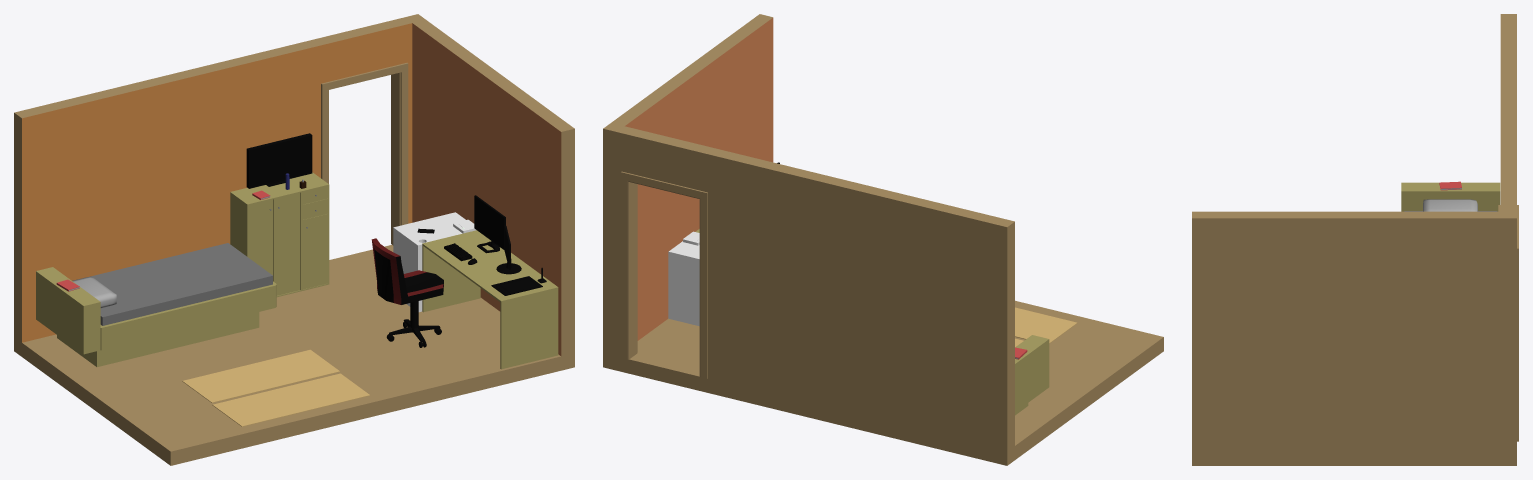
Rendered from room2.glb.
3 views of the same model, side by side, from view 1: azimuth 30°, elevation 25°; view 2: azimuth 150°, elevation 25°; view 3: azimuth 270°, elevation 25° (orthographic). The views are drawn at different scales.
Parts seen in each view (by area): view 1: walls, closet, desk, bed top, bed mid, door border, rug.001, rug, bed head, bed bottom, base.001, seat (+5 smaller); view 2: walls, door border, table, bed head, rug.001; view 3: walls, bed head, pillow, door border.
Boxes of the visible parts, box(x1,y1,x2,y2) form: walls: box(14, 14, 574, 465); closet: box(230, 172, 329, 297); desk: box(422, 230, 558, 369); bed top: box(89, 243, 272, 325); bed mid: box(100, 281, 276, 350); door border: box(321, 62, 408, 245); rug.001: box(212, 373, 370, 426); rug: box(182, 349, 339, 402); bed head: box(36, 267, 100, 354); bed bottom: box(57, 312, 259, 366); base.001: box(246, 133, 312, 188); seat: box(371, 238, 443, 304); walls: box(603, 14, 1163, 465); door border: box(621, 171, 707, 378); table: box(668, 241, 699, 326); bed head: box(1015, 335, 1049, 411); rug.001: box(1015, 307, 1077, 343); walls: box(1192, 14, 1516, 465); bed head: box(1401, 182, 1500, 211); pillow: box(1423, 199, 1477, 211); door border: box(1498, 205, 1518, 441).
Bounding box in the file's own units: 4.73 × 2.67 × 3.19.
